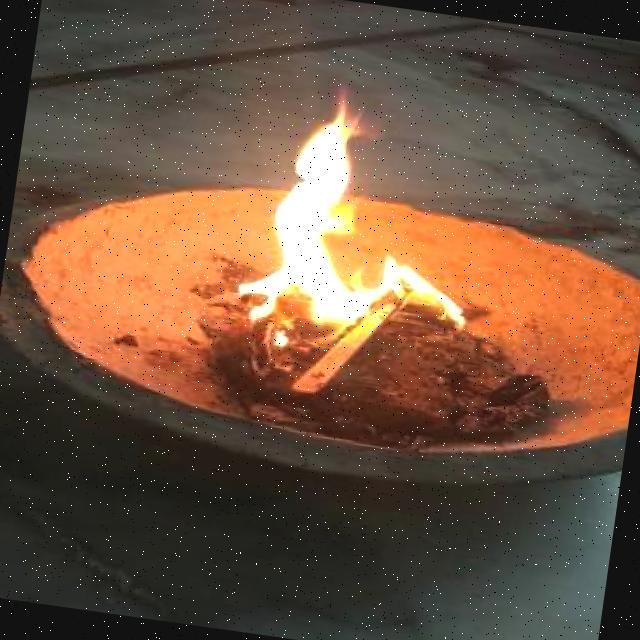fire: (247, 91, 490, 369)
